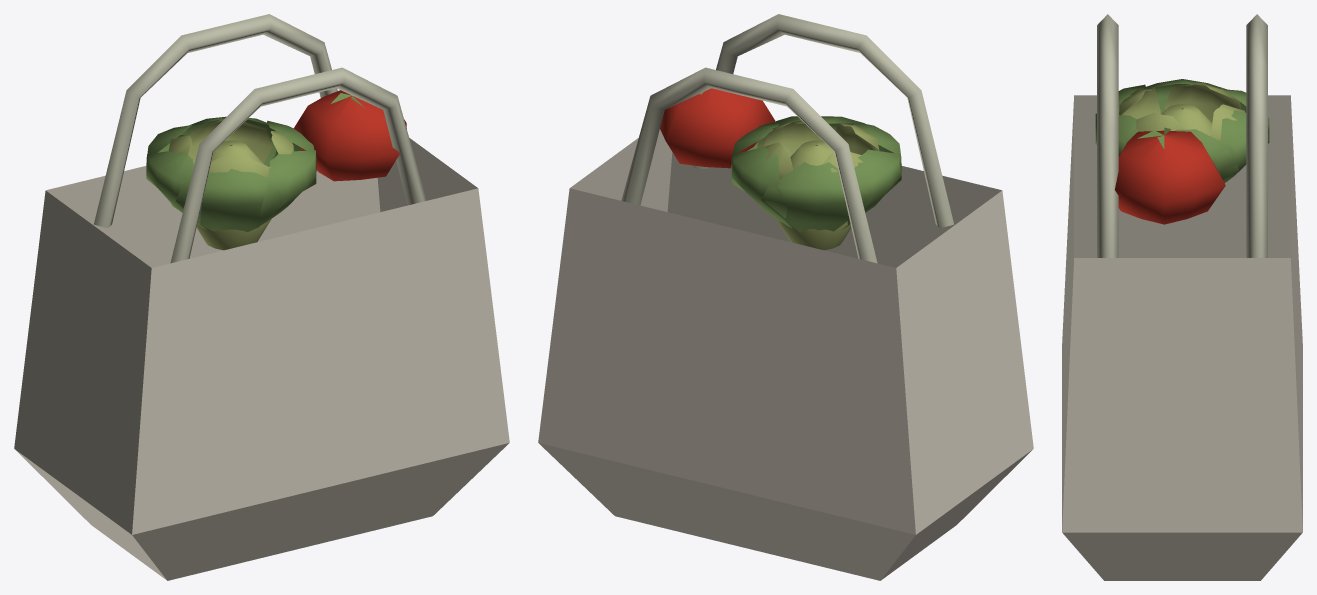
Rendered from neighborhood-bag.glb.
3 views of the same model, side by side, from view 1: azimuth 30°, elevation 25°; view 2: azimuth 150°, elevation 25°; view 3: azimuth 270°, elevation 25° (orthographic). The views are drawn at different scales.
Visible parts, largest first — view 1: Neighborhood shopping bag, Neighborhood bag contents; view 2: Neighborhood shopping bag, Neighborhood bag contents; view 3: Neighborhood shopping bag, Neighborhood bag contents.
Part boxes in pixels (<box>): Neighborhood shopping bag: <box>14,14,509,580</box>; Neighborhood bag contents: <box>146,90,406,250</box>; Neighborhood shopping bag: <box>538,14,1033,580</box>; Neighborhood bag contents: <box>660,88,901,250</box>; Neighborhood shopping bag: <box>1062,14,1302,580</box>; Neighborhood bag contents: <box>1095,79,1269,224</box>.
Bounding box in the file's own units: 0.37 × 0.439 × 0.2.
